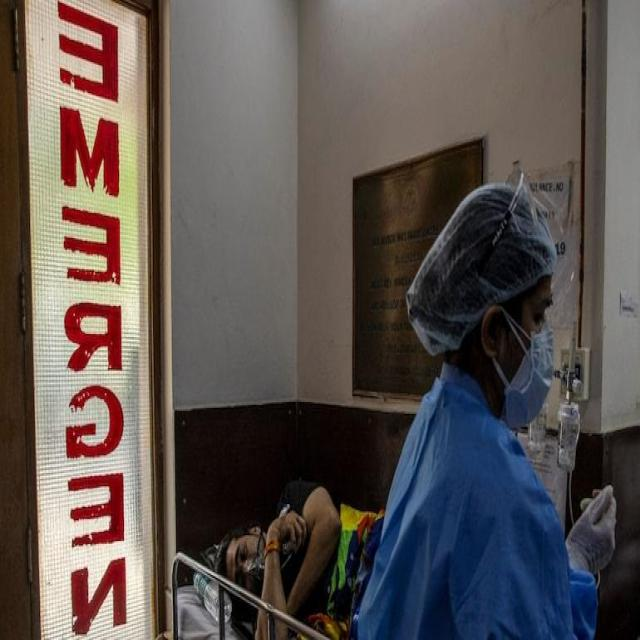Gloves: (565, 472, 623, 586)
Mask: (502, 316, 555, 430)
